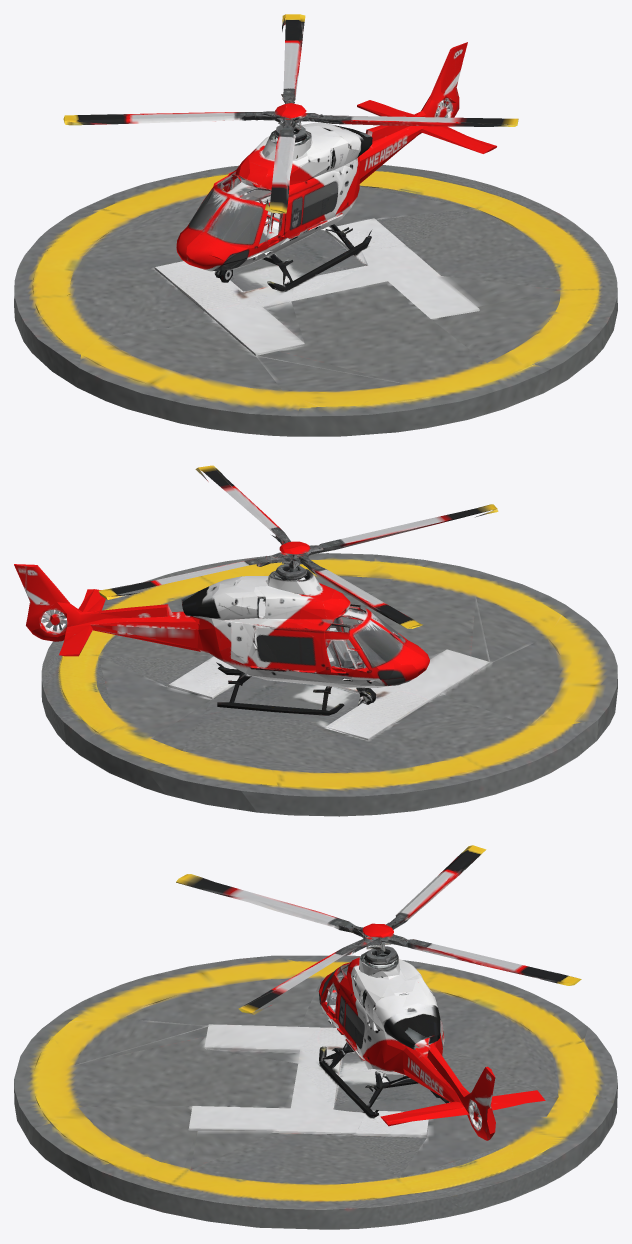
Rendered from helipad.glb.
3 views of the same model, one above another, from view 1: azimuth 30°, elevation 25°; view 2: azimuth 150°, elevation 25°; view 3: azimuth 270°, elevation 25° (orthographic). The views are drawn at different scales.
Visible parts, largest first — view 1: output_unwrapped; view 2: output_unwrapped; view 3: output_unwrapped.
Boxes of the visible parts, box(x1,y1,x2,y2) form: output_unwrapped: box(14, 14, 617, 436); output_unwrapped: box(14, 465, 617, 816); output_unwrapped: box(14, 845, 617, 1229).
Bounding box in the file's own units: 1.9 × 0.6193 × 1.9.
1 material, 1 textured.
